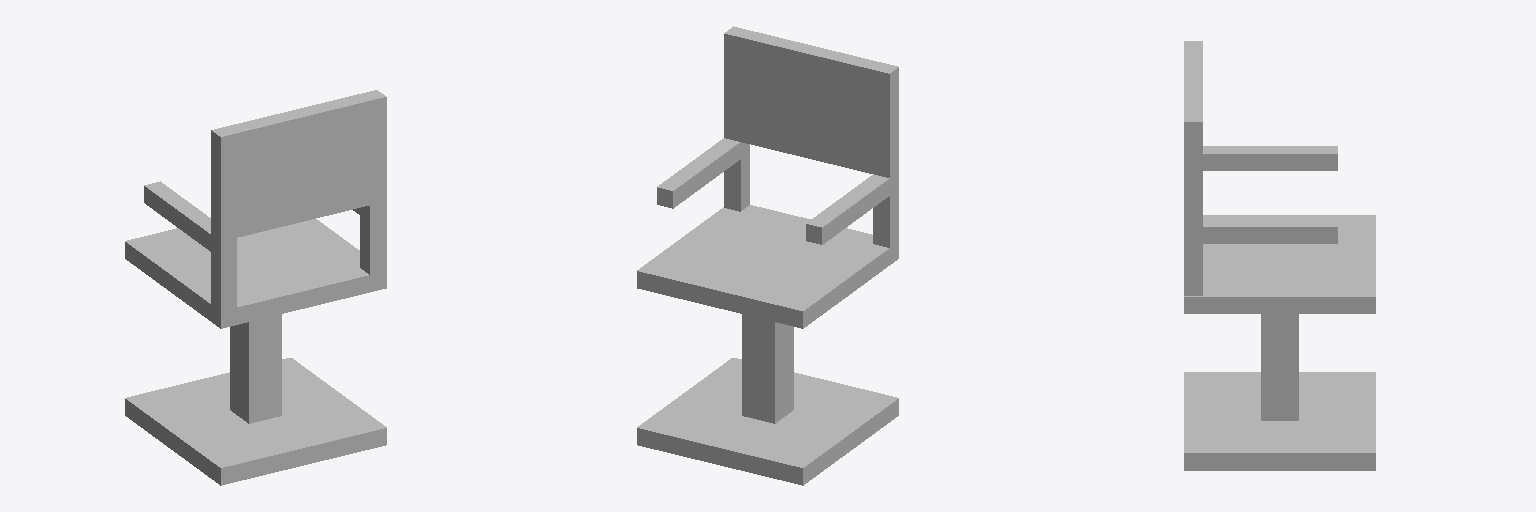
The model's file is Chair (Base).obj.
3 views of the same model, side by side, from view 1: azimuth 30°, elevation 25°; view 2: azimuth 150°, elevation 25°; view 3: azimuth 270°, elevation 25° (orthographic).
Parts seen in each view (by area): view 1: CO_Chair; view 2: CO_Chair; view 3: CO_Chair.
Part boxes in pixels (bbox=[...]): CO_Chair: bbox=[125, 90, 386, 485]; CO_Chair: bbox=[637, 26, 898, 485]; CO_Chair: bbox=[1184, 41, 1375, 470].
Bounding box in the file's own units: 0.5 × 1 × 0.5.